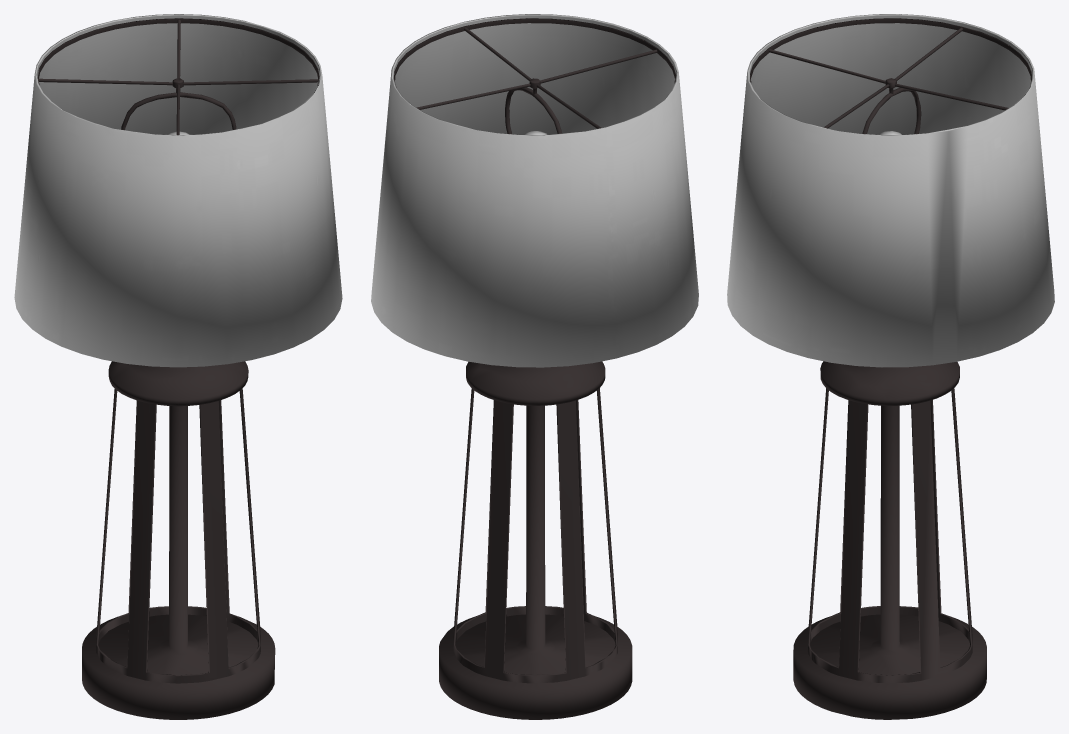
The model's file is abo-B07MBFD6F9.glb.
The picture shows the model from 3 angles, left to right: view 1: azimuth 30°, elevation 25°; view 2: azimuth 150°, elevation 25°; view 3: azimuth 270°, elevation 25°; orthographic projection.
Visible parts, largest first — view 1: RootNode; view 2: RootNode; view 3: RootNode.
Boxes of the visible parts, x1,y1,x2,y2 form: RootNode: (14, 14, 342, 719); RootNode: (371, 14, 698, 719); RootNode: (727, 14, 1054, 719).
Bounding box in the file's own units: 0.25 × 0.509 × 0.25.
1 material, 1 textured.
